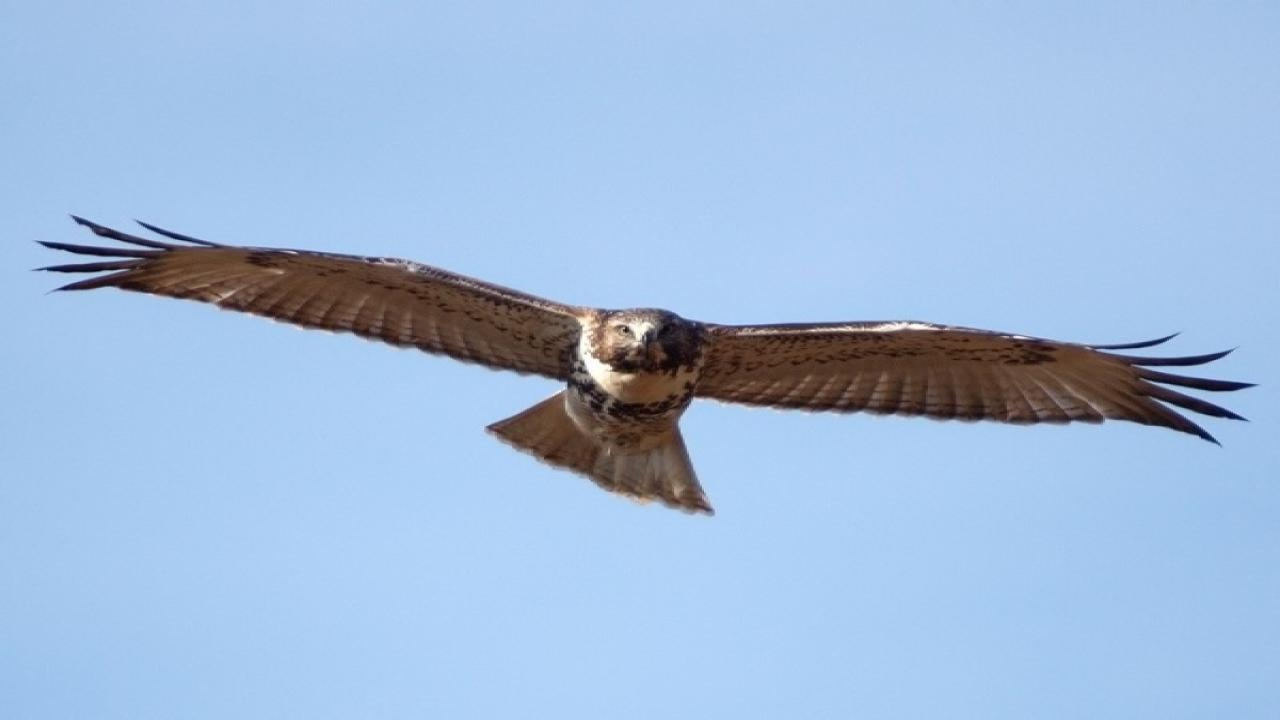Bird: (16, 209, 1277, 525)
